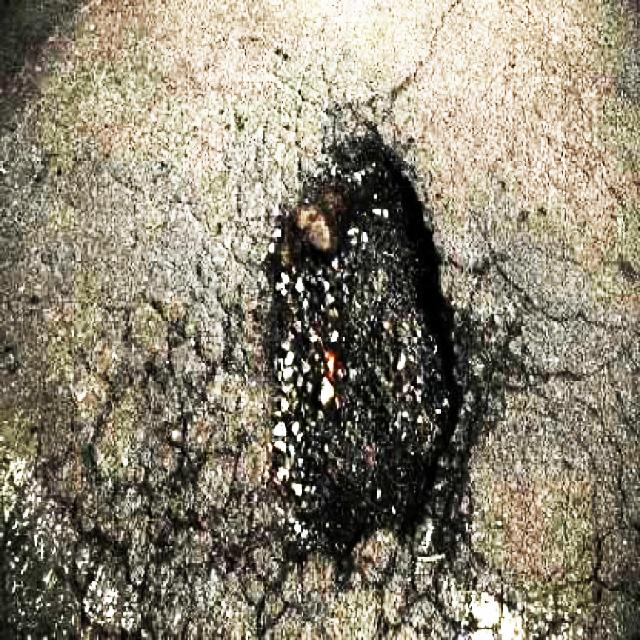pothole: (257, 123, 480, 574)
